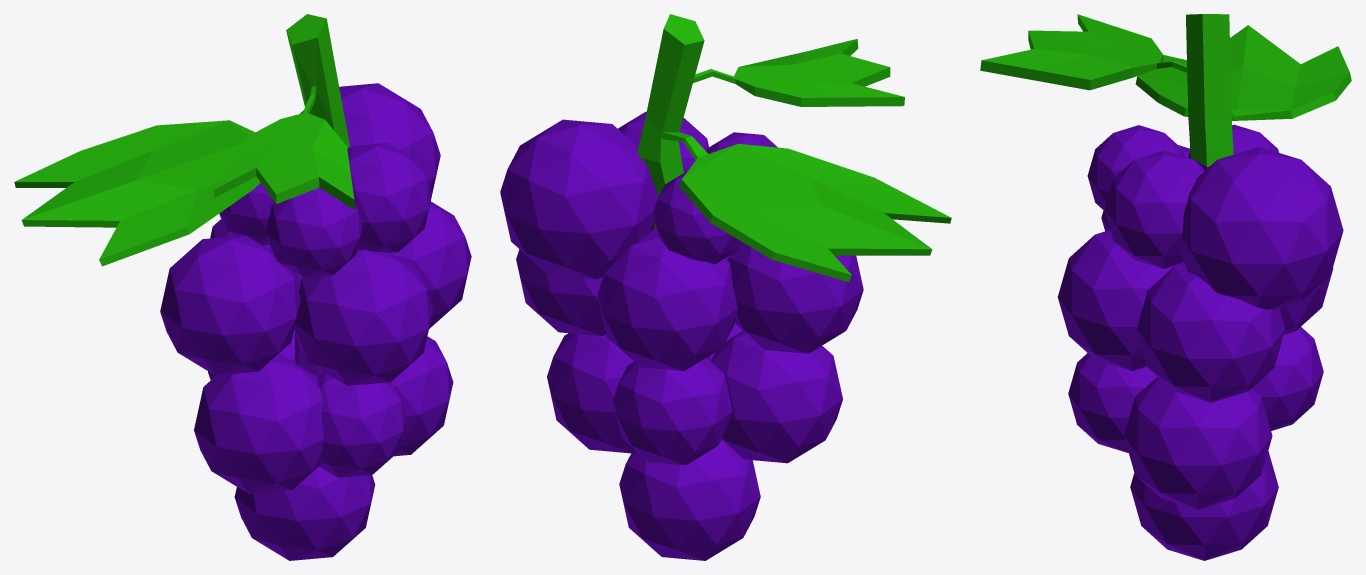
File: anggur.fbx
3 renders of one model, left to right at view 1: azimuth 30°, elevation 25°; view 2: azimuth 150°, elevation 25°; view 3: azimuth 270°, elevation 25°, orthographic. The views are drawn at different scales.
Visible parts, largest first — view 1: anggur; view 2: anggur; view 3: anggur.
Part boxes in pixels (left/top/right/bottom): anggur: left=14, top=14, right=471, bottom=560; anggur: left=500, top=14, right=951, bottom=560; anggur: left=980, top=14, right=1351, bottom=560.
Bounding box in the file's own units: 29.23 × 21.63 × 35.39.
1 material, 1 textured.
